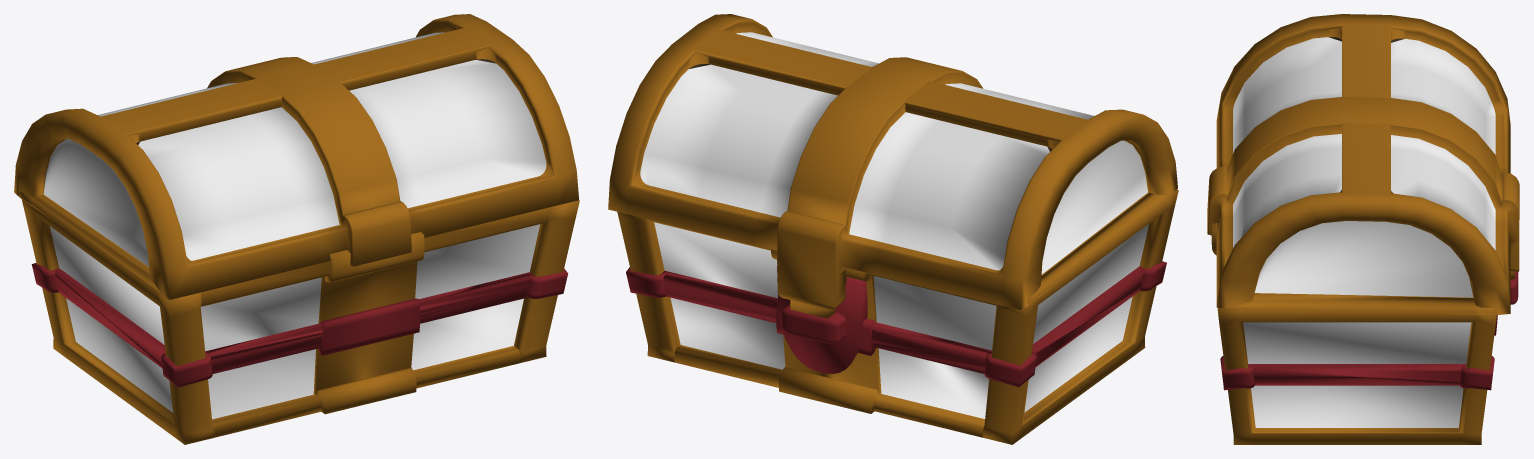
The model's file is pandora-box-popravljeno.fbx.
3 renders of one model, left to right at view 1: azimuth 30°, elevation 25°; view 2: azimuth 150°, elevation 25°; view 3: azimuth 270°, elevation 25°, orthographic. The views are drawn at different scales.
Parts seen in each view (by area): view 1: Pandoras box lid, Pandoras box; view 2: Pandoras box lid, Pandoras box; view 3: Pandoras box lid, Pandoras box.
Part boxes in pixels (bbox=[...]): Pandoras box lid: bbox=[14, 14, 578, 299]; Pandoras box: bbox=[20, 192, 579, 444]; Pandoras box lid: bbox=[608, 14, 1177, 318]; Pandoras box: bbox=[617, 189, 1178, 444]; Pandoras box lid: bbox=[1207, 14, 1519, 314]; Pandoras box: bbox=[1211, 223, 1518, 444].
Size of the model in its own units: 588 by 368 by 410.
